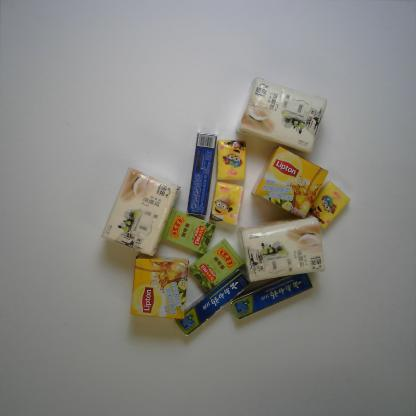Candy: (187, 236, 245, 294), (162, 207, 218, 256)
Instant Drink: (251, 146, 329, 220), (130, 254, 190, 319)
Personal Hygiene: (174, 268, 252, 336), (230, 272, 314, 320), (186, 132, 218, 217)
Tissue: (99, 166, 182, 258), (235, 76, 328, 156), (238, 214, 326, 282), (308, 180, 351, 231), (208, 180, 244, 227), (216, 140, 246, 182)
